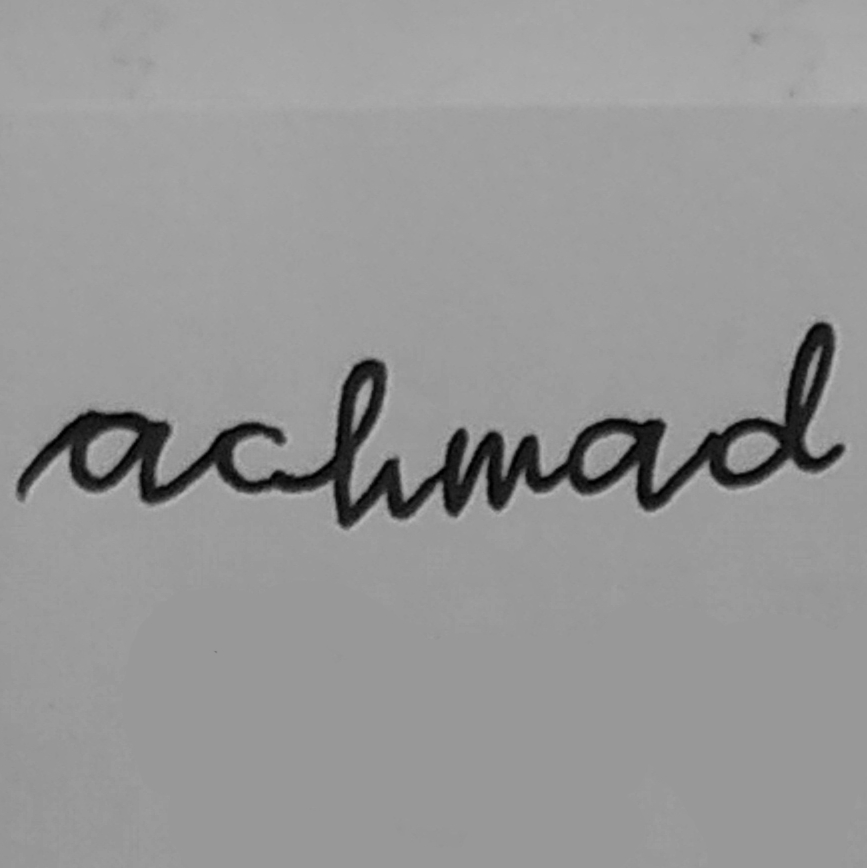a: (56, 397, 180, 519), (558, 405, 678, 515)
c: (200, 412, 294, 510)
d: (700, 317, 851, 491)
h: (322, 353, 419, 534)
m: (428, 415, 551, 524)
